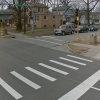Crosswalk: (2, 54, 96, 98)
